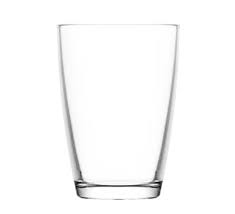glass: (54, 20, 183, 203)
